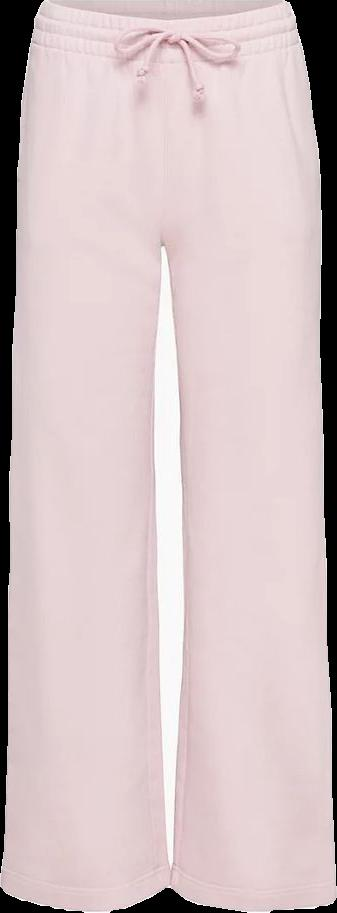Hemline: (0, 873, 176, 912), (166, 874, 336, 912)
Pantleg: (162, 0, 336, 910), (0, 0, 171, 910)
Waistline: (29, 35, 302, 68), (40, 0, 292, 24)
